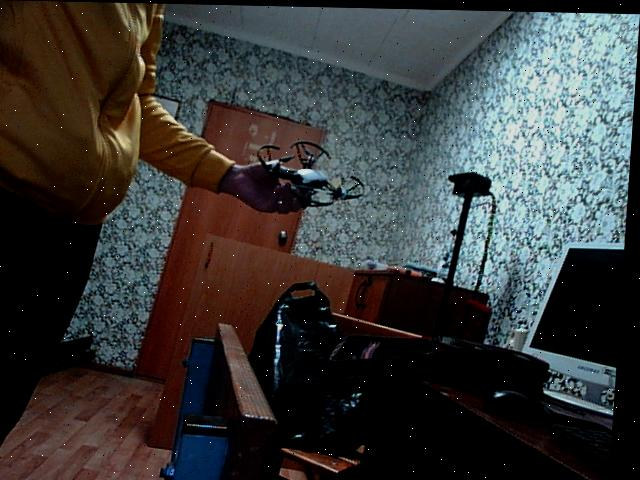drone: (250, 136, 372, 219)
